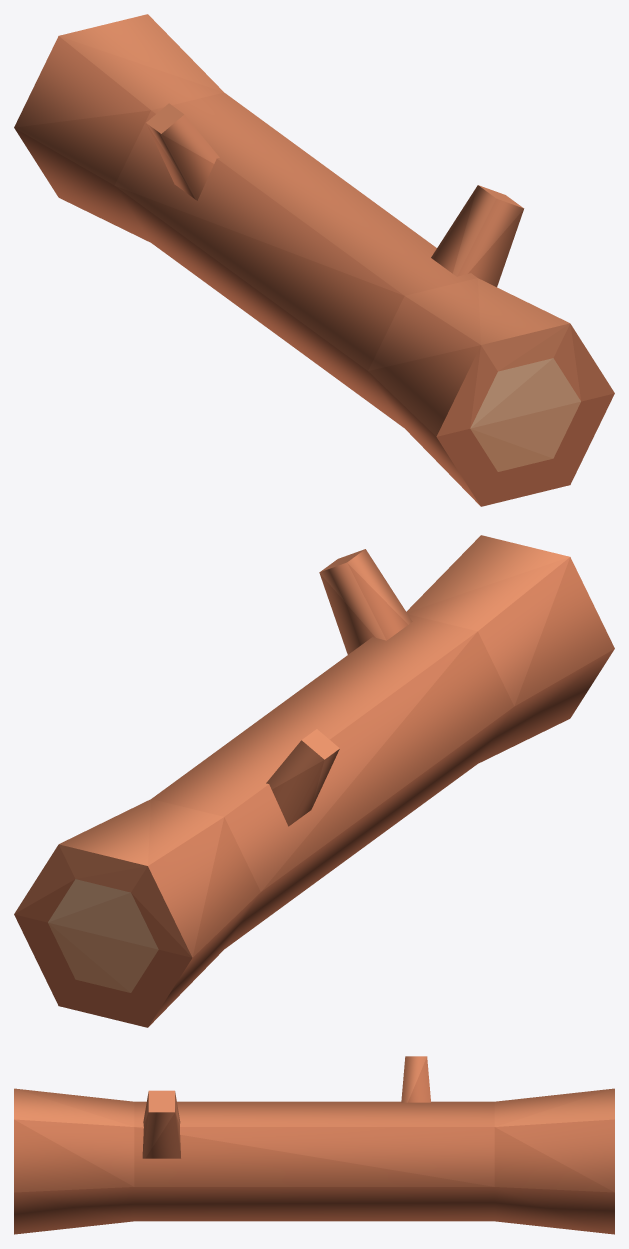
Rendered from tree-log.glb.
The picture shows the model from 3 angles, top to bottom: view 1: azimuth 30°, elevation 25°; view 2: azimuth 150°, elevation 25°; view 3: azimuth 270°, elevation 25°; orthographic projection. The views are drawn at different scales.
Visible parts, largest first — view 1: cc77450, cd37d58, cb46444, cdf8860, ce78f65, ce48c63, cd7966f, ce1a680, cdb845d, ceab38d, cd18f67, ccf7a55; view 2: cc77450, cd37d58, cb46444, cdf8860, ce78f65, ce48c63, ce1a680, cd7966f, cdb845d, cc06e4c, cd18f67, ceab38d (+1 smaller); view 3: cb46444, cd37d58, cc77450, cdf8860, ce78f65, ce48c63, cc4714e, ccf7a55.
Boxes of the visible parts, <box> form: cc77450: <box>14,110,614,436</box>; cd37d58: <box>14,36,580,427</box>; cb46444: <box>14,128,614,506</box>; cdf8860: <box>151,92,569,371</box>; ce78f65: <box>59,14,569,344</box>; ce48c63: <box>59,36,569,371</box>; cd7966f: <box>471,401,580,458</box>; ce1a680: <box>470,358,580,428</box>; cdb845d: <box>162,114,523,276</box>; ceab38d: <box>470,358,552,427</box>; cd18f67: <box>470,429,552,471</box>; ccf7a55: <box>431,185,477,273</box>; cc77450: <box>192,557,614,957</box>; cd37d58: <box>14,557,569,957</box>; cb46444: <box>14,649,614,1027</box>; cdf8860: <box>76,549,477,892</box>; ce78f65: <box>59,535,569,865</box>; ce48c63: <box>59,557,569,878</box>; ce1a680: <box>48,892,158,949</box>; cd7966f: <box>48,922,158,992</box>; cdb845d: <box>266,562,386,789</box>; cc06e4c: <box>14,879,191,957</box>; cd18f67: <box>48,923,130,992</box>; ceab38d: <box>48,879,130,922</box>; cb46444: <box>14,1187,614,1234</box>; cd37d58: <box>14,1112,614,1192</box>; cc77450: <box>14,1113,614,1192</box>; cdf8860: <box>134,1056,494,1126</box>; ce78f65: <box>14,1088,614,1126</box>; ce48c63: <box>15,1088,613,1126</box>; cc4714e: <box>145,1113,180,1158</box>; ccf7a55: <box>408,1056,430,1102</box>.
Size of the model in its own units: 0.2495 by 0.2771 by 1.
